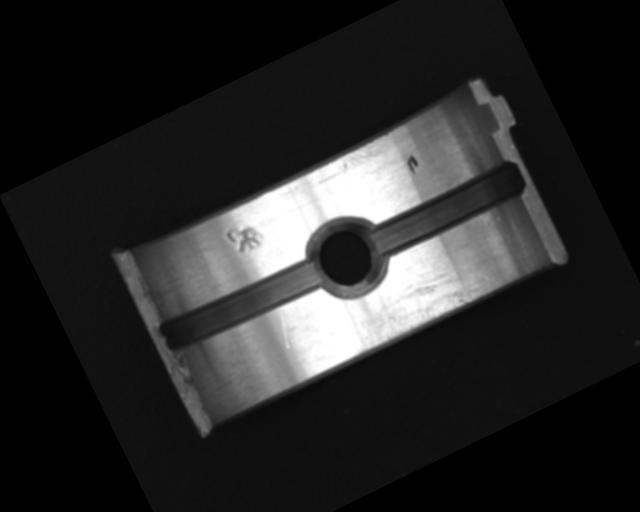blot: (402, 151, 422, 177)
bruise: (223, 216, 267, 259)
gap: (154, 247, 328, 361), (362, 156, 529, 263)
hole: (295, 205, 399, 310)
nick: (269, 307, 299, 350)
scratch: (335, 250, 497, 360)
